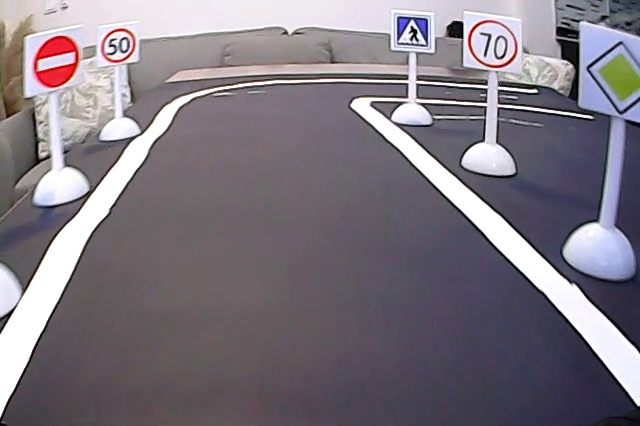do not enter: (25, 31, 85, 90)
pedestrian crossing: (392, 12, 434, 51)
speed limit 50: (98, 25, 137, 64)
speed limit 70: (465, 14, 520, 69)
